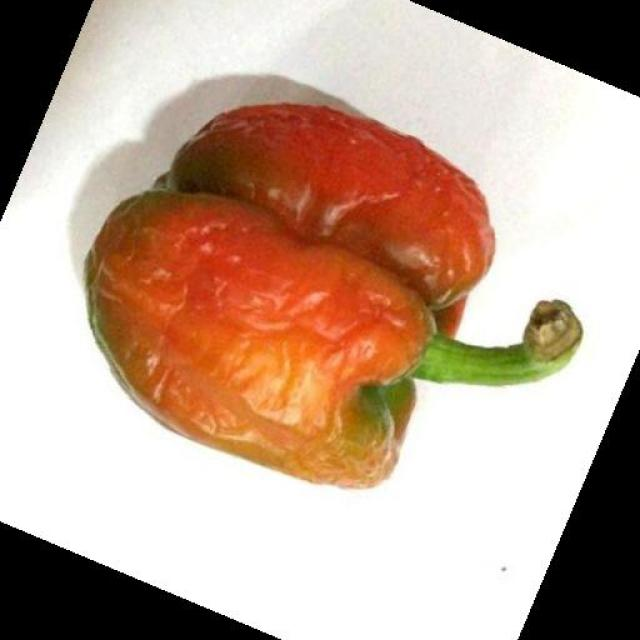Stale_Capsicum: (70, 90, 581, 483)
